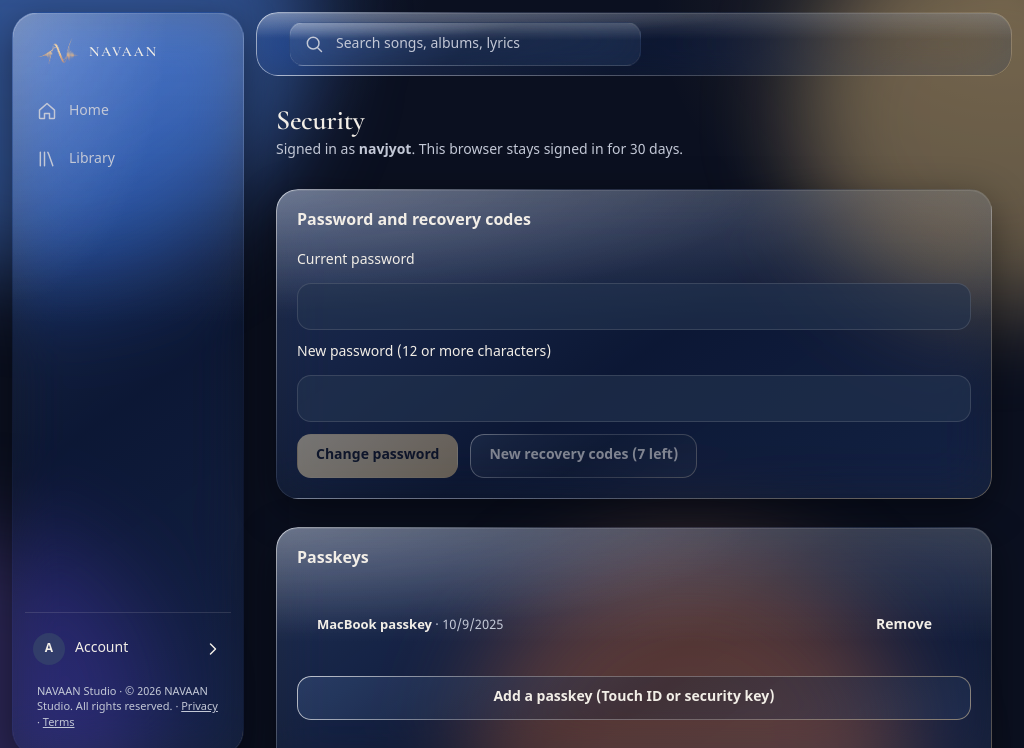
Scenario: Security (NAV-25) › shows a refused password step
This screenshot has width=1024, height=748.
Type "nope" into the password field labelled "Current password". click: (634,307)
box: [297,283,971,330]
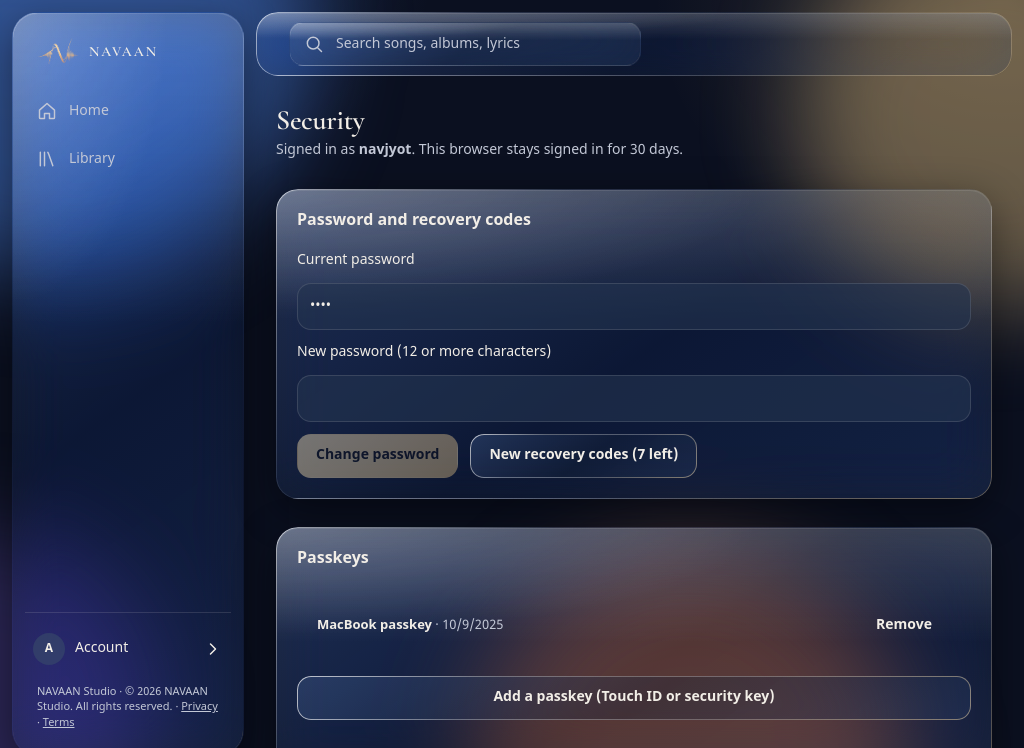
Click the button "New recovery codes (7 left)". click: (584,456)
box: [470,434,697,478]
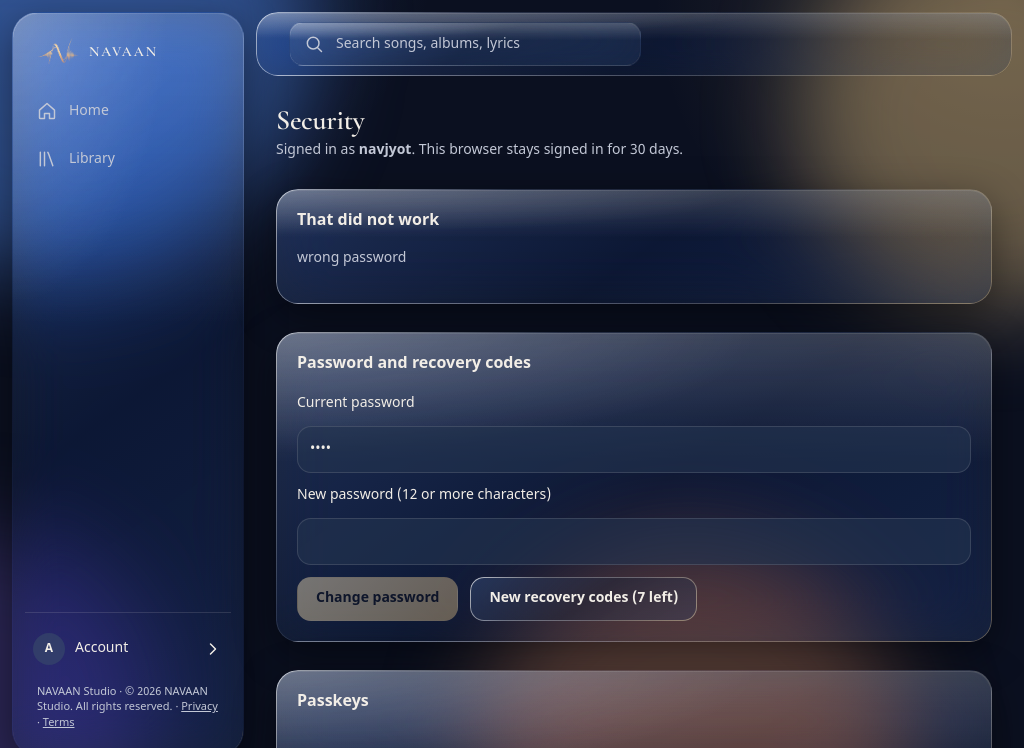
Expected: the message shows "wrong password", [297,249,406,268]
